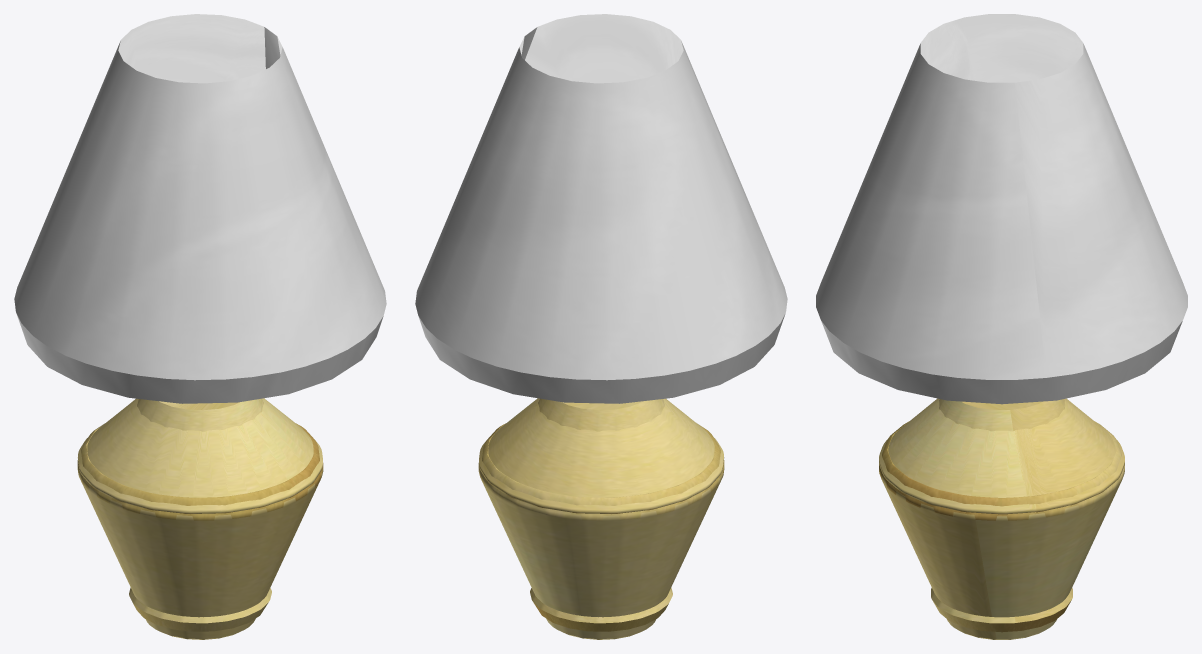
File: lampara.obj
3 renders of one model, left to right at view 1: azimuth 30°, elevation 25°; view 2: azimuth 150°, elevation 25°; view 3: azimuth 270°, elevation 25°, orthographic.
Visible parts, largest first — view 1: pCone4, pCone1, pCone2, pCone3, pasted__pCone3 group2; view 2: pCone4, pCone1, pCone2, pCone3, pasted__pCone3 group2; view 3: pCone4, pCone1, pCone2, pCone3, pasted__pCone3 group2.
Boxes of the visible parts, x1,y1,x2,y2 form: pCone4: (14, 14, 386, 403); pCone1: (77, 423, 323, 639); pCone2: (77, 398, 322, 513); pCone3: (137, 398, 263, 431); pasted__pCone3 group2: (129, 587, 271, 631); pCone4: (415, 14, 787, 403); pCone1: (478, 423, 724, 639); pCone2: (479, 398, 724, 513); pCone3: (538, 398, 664, 431); pasted__pCone3 group2: (530, 587, 672, 631); pCone4: (816, 14, 1187, 404); pCone1: (879, 421, 1124, 639); pCone2: (879, 398, 1124, 514); pCone3: (939, 399, 1064, 431); pasted__pCone3 group2: (931, 588, 1072, 632).
Bounding box in the file's own units: 2.79 × 4.72 × 2.79.
4 materials, 4 textured.
